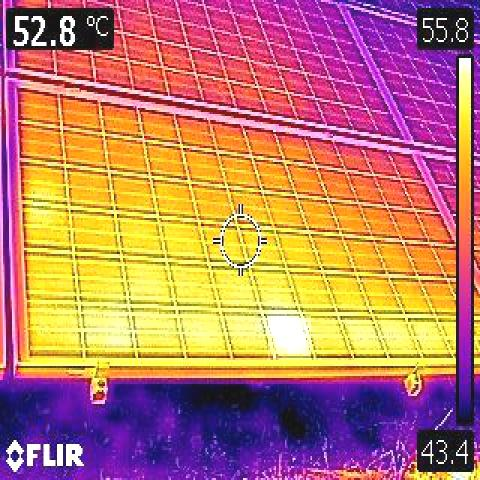fault: (268, 316, 311, 358)
